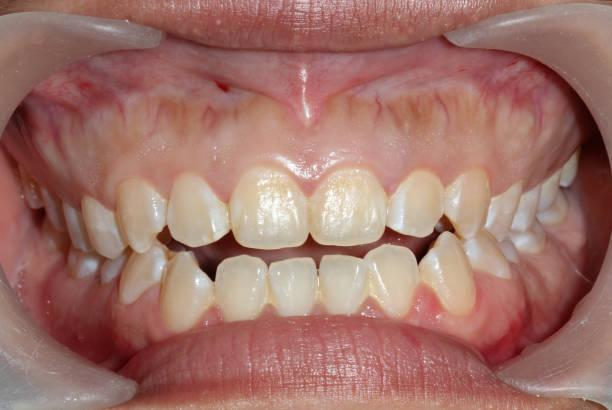Gingivitis: (70, 93, 554, 177)
